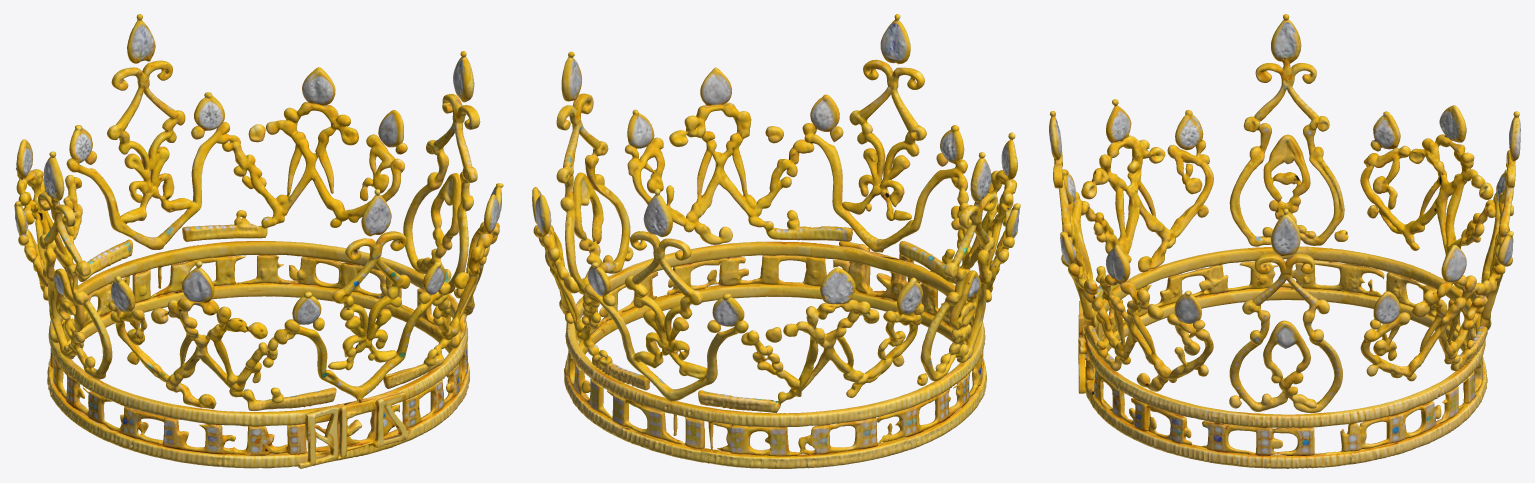
File: crown.glb
3 views of the same model, side by side, from view 1: azimuth 30°, elevation 25°; view 2: azimuth 150°, elevation 25°; view 3: azimuth 270°, elevation 25° (orthographic). The views are drawn at different scales.
Bounding box in the file's own units: 1.99 × 1.26 × 1.99.
1 material, 1 textured.
